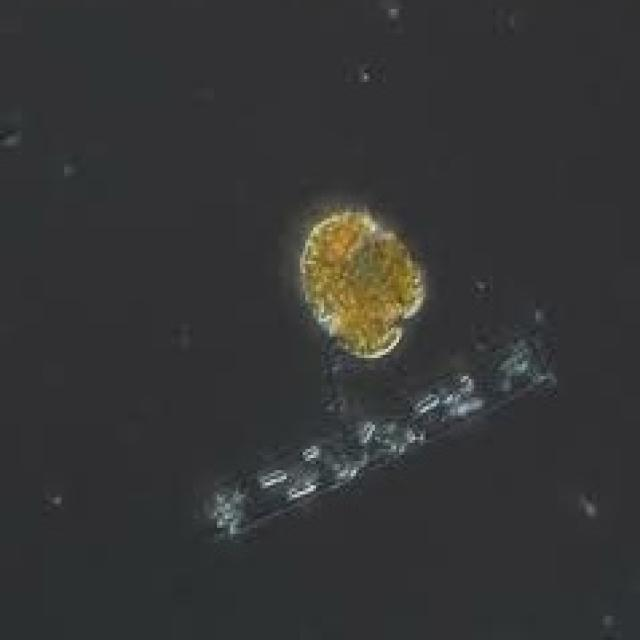Karenia: (290, 205, 434, 371)
